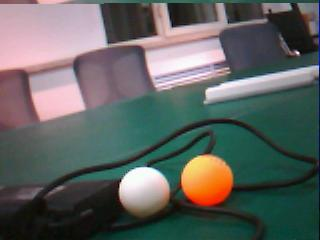oball: (182, 154, 233, 206)
